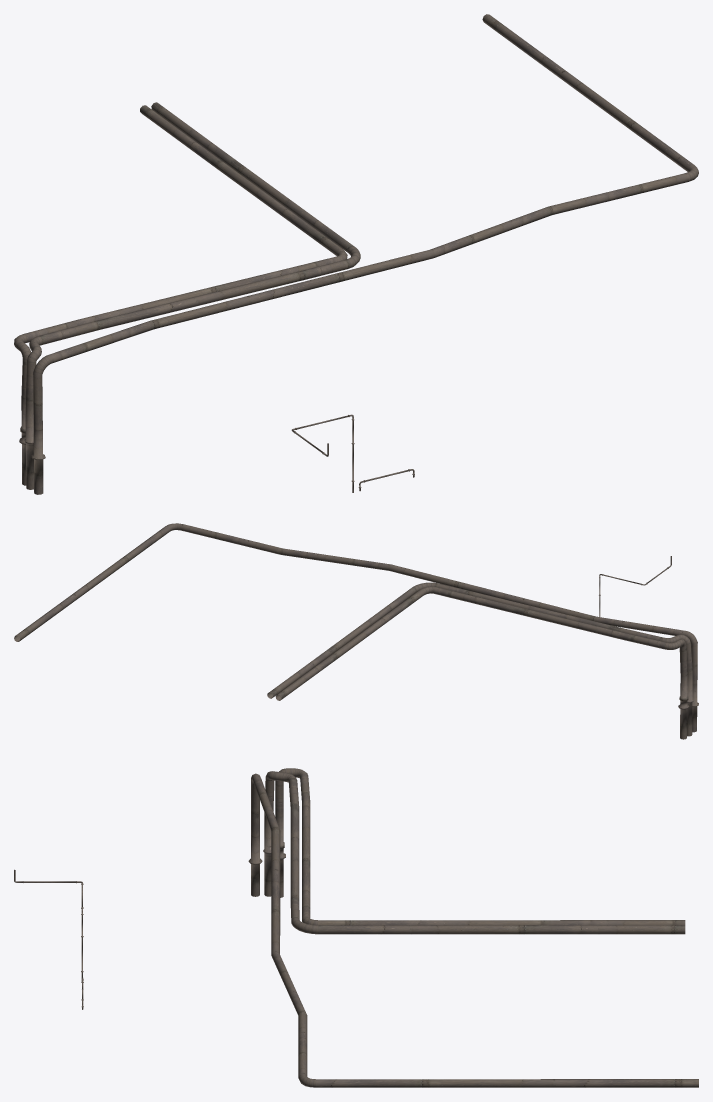
File: Corridor_00_06.fbx
3 renders of one model, top to bottom at view 1: azimuth 30°, elevation 25°; view 2: azimuth 150°, elevation 25°; view 3: azimuth 270°, elevation 25°, orthographic. The views are drawn at different scales.
Parts seen in each view (by area): view 1: Corridor_00_06; view 2: Corridor_00_06; view 3: Corridor_00_06.
Part boxes in pixels (x1,y1,x2,y2): Corridor_00_06: [14, 14, 698, 494]; Corridor_00_06: [14, 523, 698, 739]; Corridor_00_06: [14, 768, 698, 1087].
Bounding box in the file's own units: 3494 × 659 × 3196.
